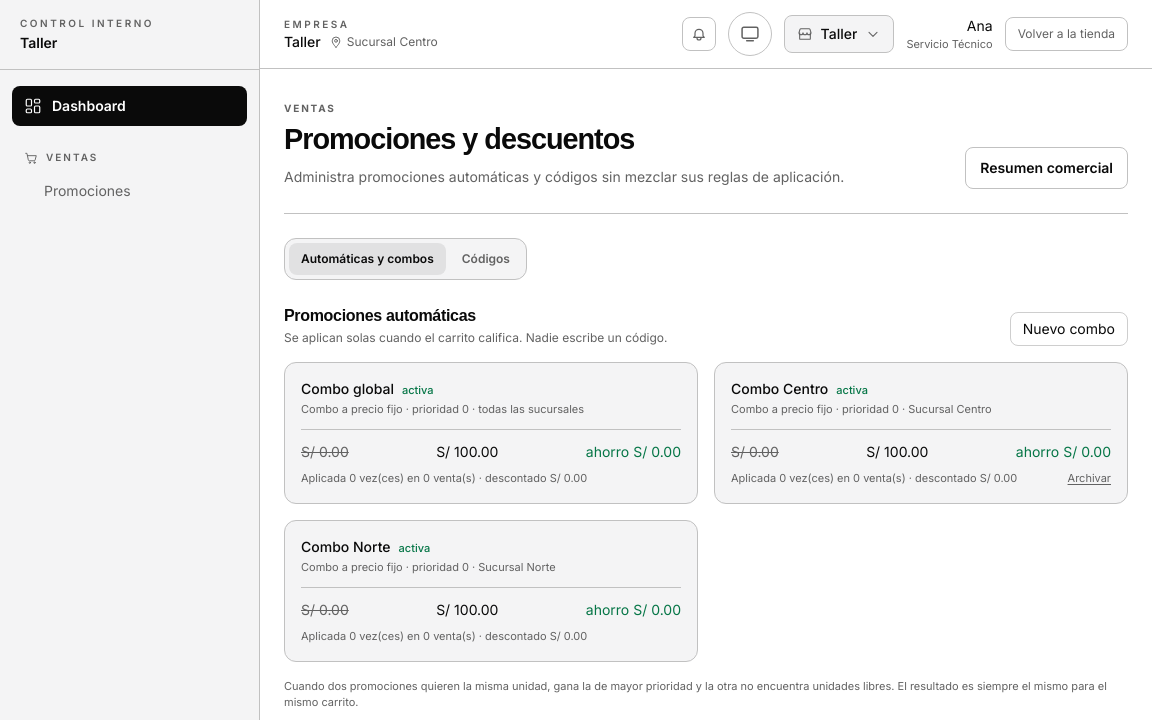
Test: Promociones › SELECTED is told a new combo applies only in its branches
Click the button "Nuevo combo": point(1069, 328) [1010, 312, 1128, 346]
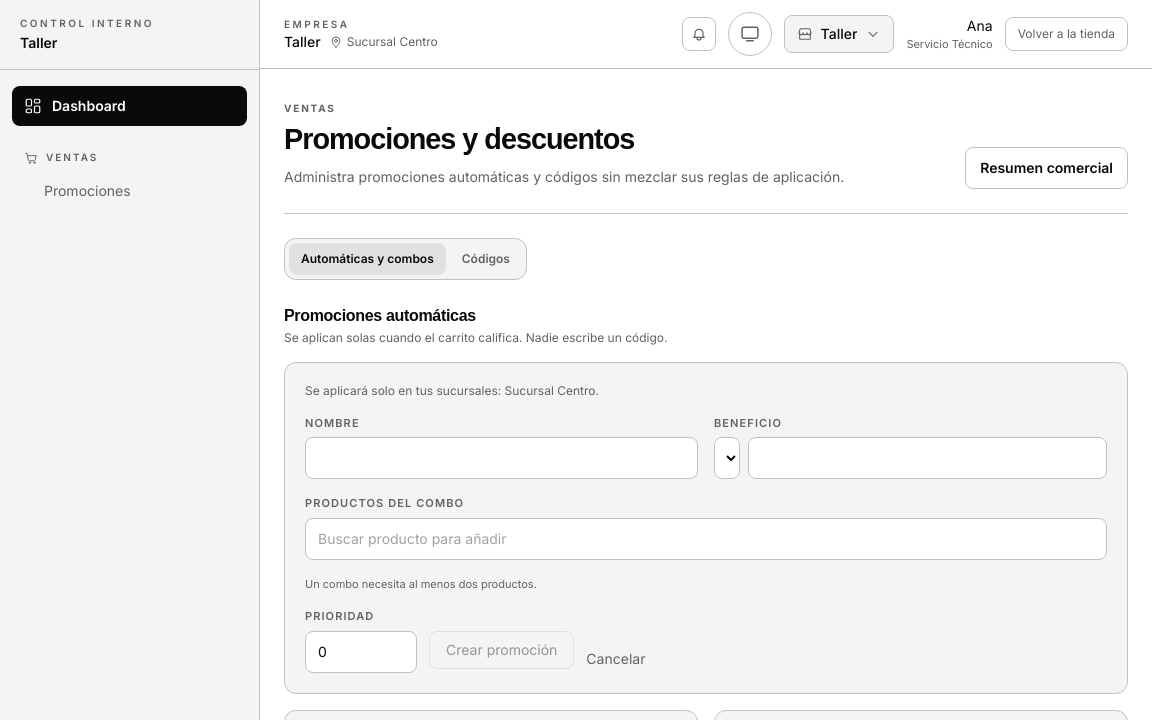
Result: the text "Se aplicará solo en tus sucursales: Sucursal Centro." is shown at [305, 382, 599, 398]
